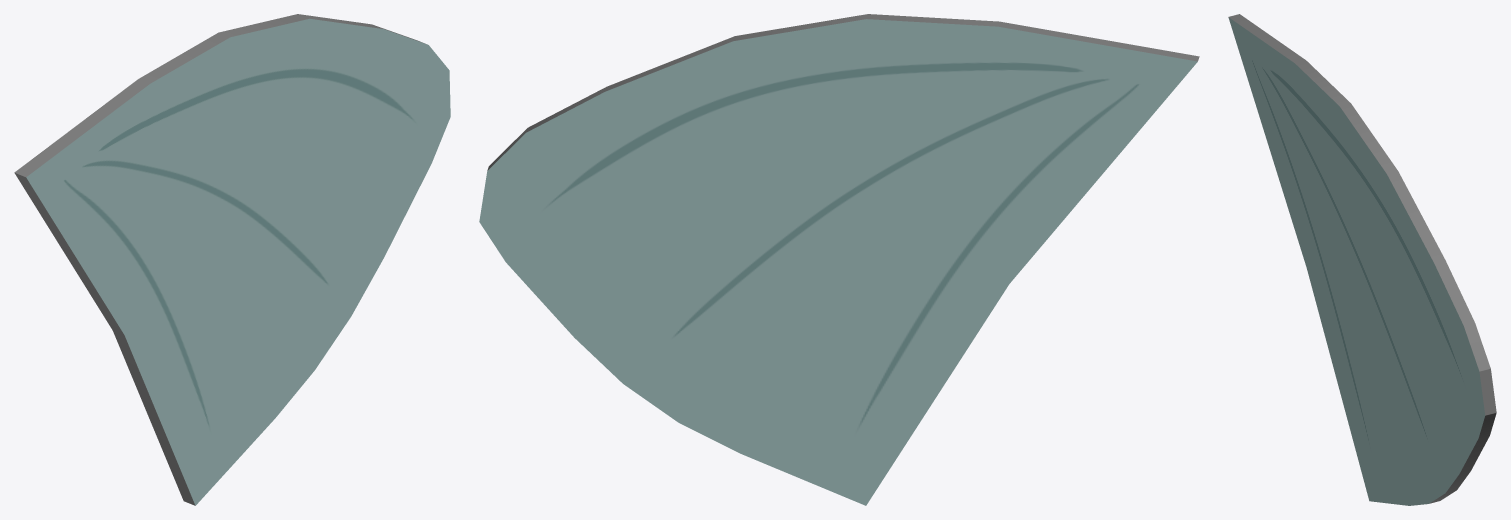
File: Ala4.obj
3 views of the same model, side by side, from view 1: azimuth 30°, elevation 25°; view 2: azimuth 150°, elevation 25°; view 3: azimuth 270°, elevation 25° (orthographic). The views are drawn at different scales.
Parts seen in each view (by area): view 1: pCube6; view 2: pCube6; view 3: pCube6.
Boxes of the visible parts, bbox=[...] form: pCube6: bbox=[14, 14, 450, 505]; pCube6: bbox=[479, 14, 1199, 505]; pCube6: bbox=[1228, 14, 1496, 505].
Size of the model in its own units: 0.6461 by 0.5072 by 0.3064.
Materials: 2 (1 with a texture image).
